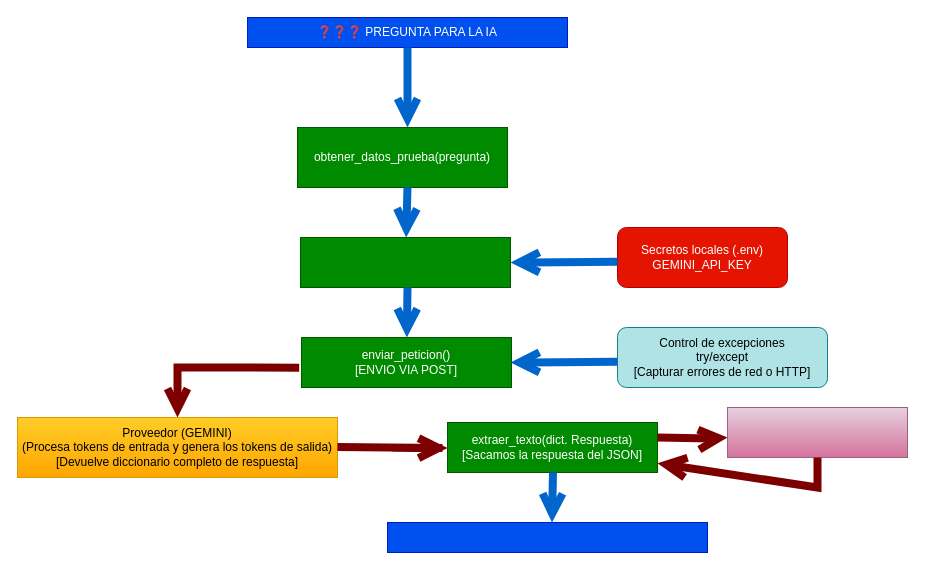
The diagram is 925 pixels wide and 570 high, and some of its shapes have lost their labels. Here are the shapes that lost their labels. From the top down, the centre of each, then its label:
At [405,262]: "armar_peticion(pregunta)".
At [817,432]: "Calcular_costo() [a partir del usageMetadata]".
At [547,537]: "👋👋👋 RESPUESTA DE LA IA".
